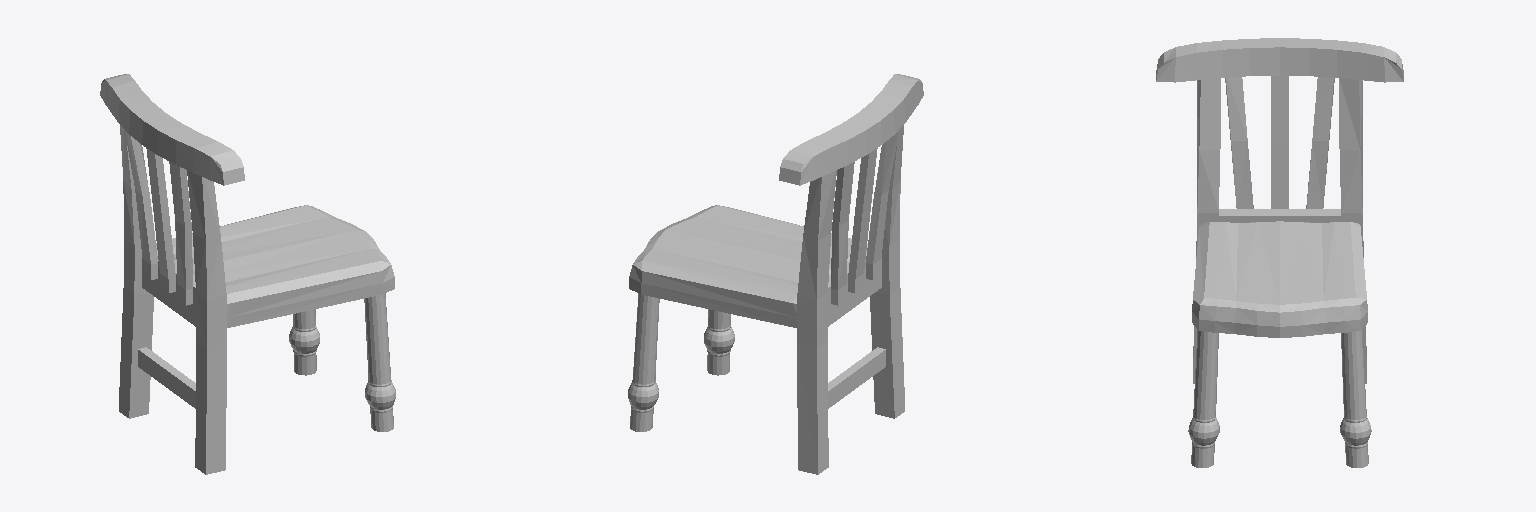
Rendered from chair.obj.
3 renders of one model, left to right at view 1: azimuth 30°, elevation 25°; view 2: azimuth 150°, elevation 25°; view 3: azimuth 270°, elevation 25°, orthographic.
Visible parts, largest first — view 1: trn_ChairSimple; view 2: trn_ChairSimple; view 3: trn_ChairSimple.
Part boxes in pixels (x1,y1,x2,y2): trn_ChairSimple: (100, 74, 395, 474); trn_ChairSimple: (628, 74, 923, 474); trn_ChairSimple: (1156, 38, 1403, 467).
Bounding box in the file's own units: 0.8662 × 1.2 × 0.8159.